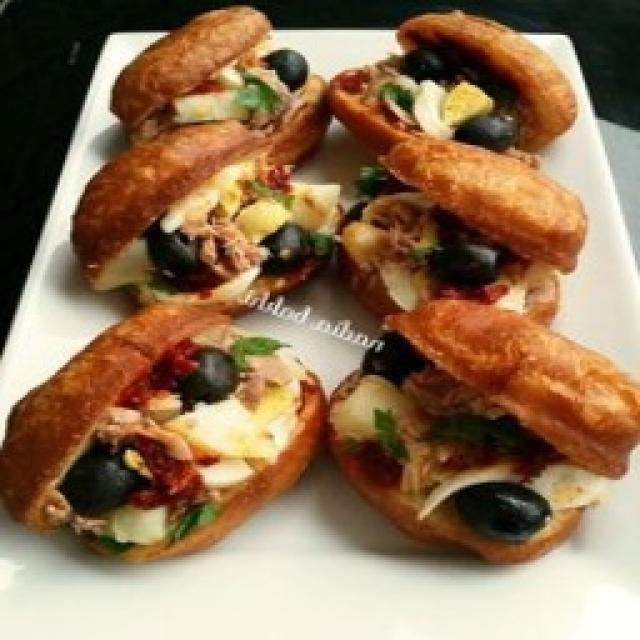Frecasse: (0, 5, 640, 568)
